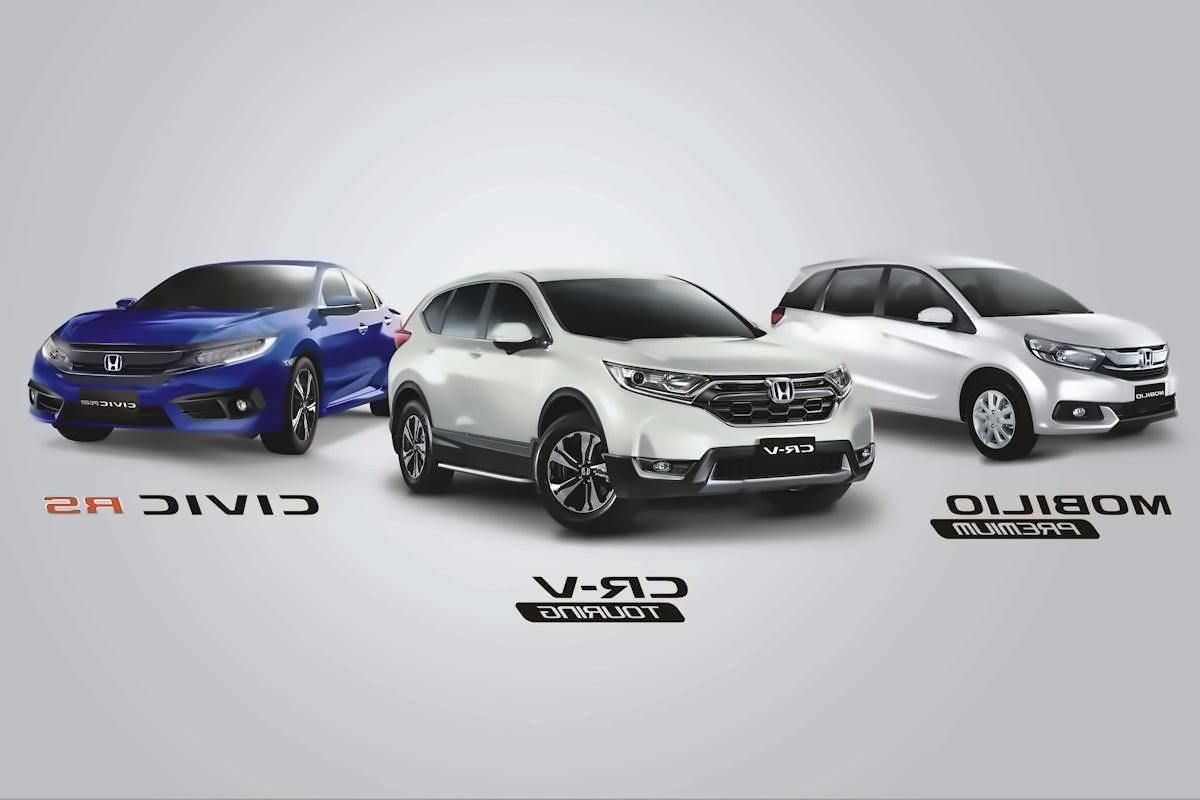Car hood: (579, 335, 848, 384), (55, 305, 279, 352), (980, 307, 1175, 352)
Driver-s door - -F-R-: (879, 260, 964, 411), (482, 275, 554, 452)
Fender - -F-L-: (277, 312, 332, 423)
Fender - -F-R-: (528, 355, 625, 470), (950, 327, 1036, 422)
Fender - -R-R-: (390, 344, 434, 398), (317, 289, 373, 328)
Front bumper: (599, 414, 883, 506), (22, 369, 290, 447), (1025, 374, 1184, 449)
Headlight - -L-: (167, 329, 273, 373), (810, 355, 860, 400)
Headlight - -R-: (597, 354, 717, 411), (1019, 327, 1111, 379), (32, 332, 82, 378)
Passenger-s door - -F-L-: (317, 269, 354, 412)
Passenger-s door - -R-L-: (352, 275, 392, 392)
Passenger-s door - -R-R-: (420, 277, 490, 449), (817, 262, 879, 402)
Rear light - -R-: (754, 299, 807, 332), (389, 322, 419, 355)
Side bumper - -L-: (316, 381, 395, 423)
Side bumper - -R-: (422, 422, 543, 488), (859, 384, 969, 431)
Side mirror - -R-: (485, 320, 551, 356), (910, 299, 961, 335), (104, 289, 145, 314)
